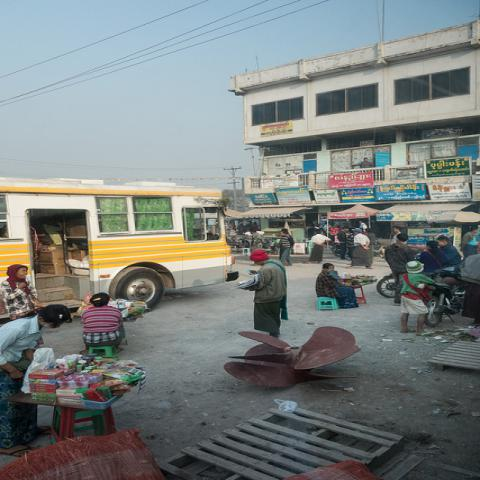bus: (0, 184, 240, 327)
motorcycle: (424, 262, 468, 327), (376, 275, 396, 298)
